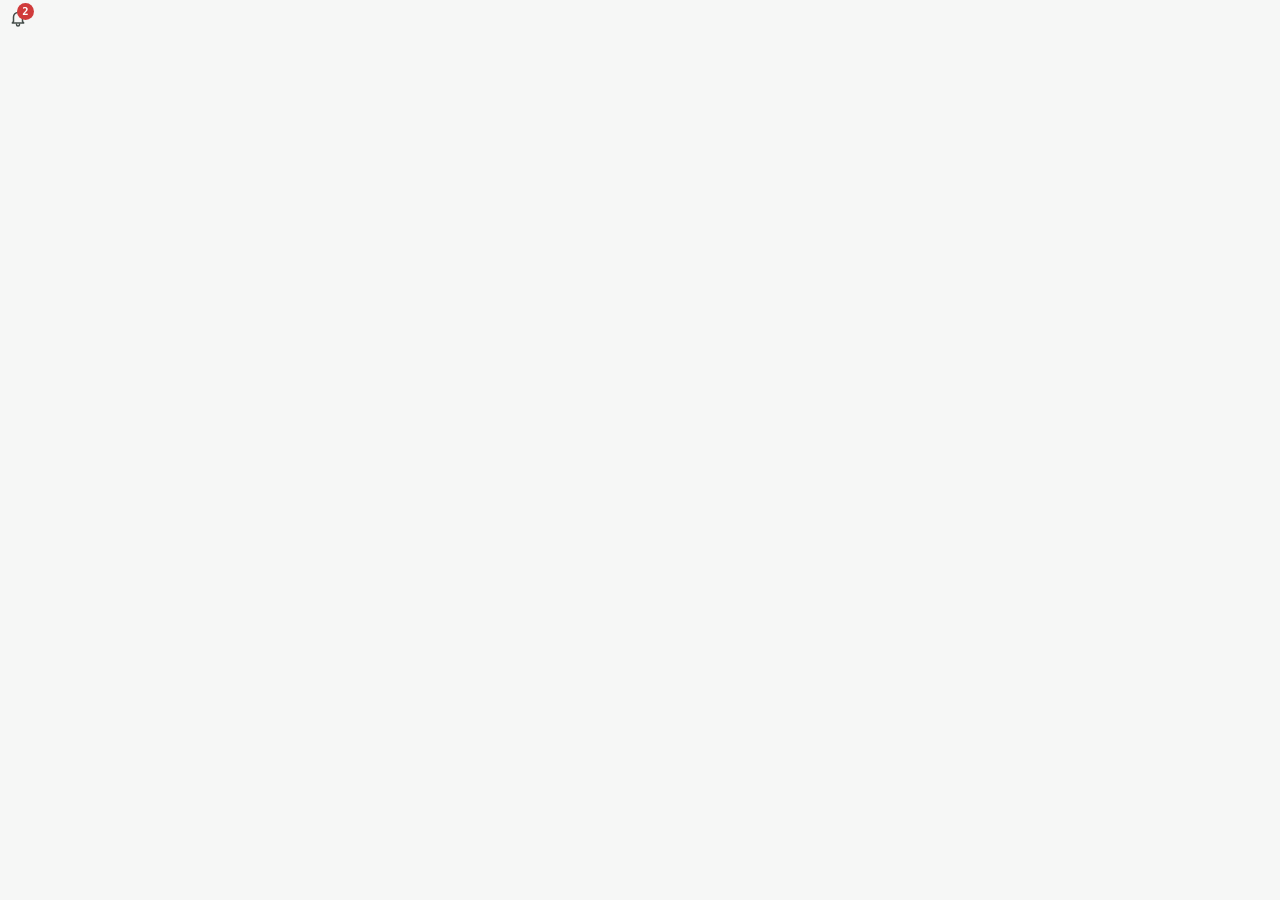
Test: liste les notifications traduites et marque tout comme lu
Later steps or results of the test are not shown.
Click the button named "Notifications, 2 non lues".
click(18, 18)  # box left=0, top=0, right=36, bottom=36
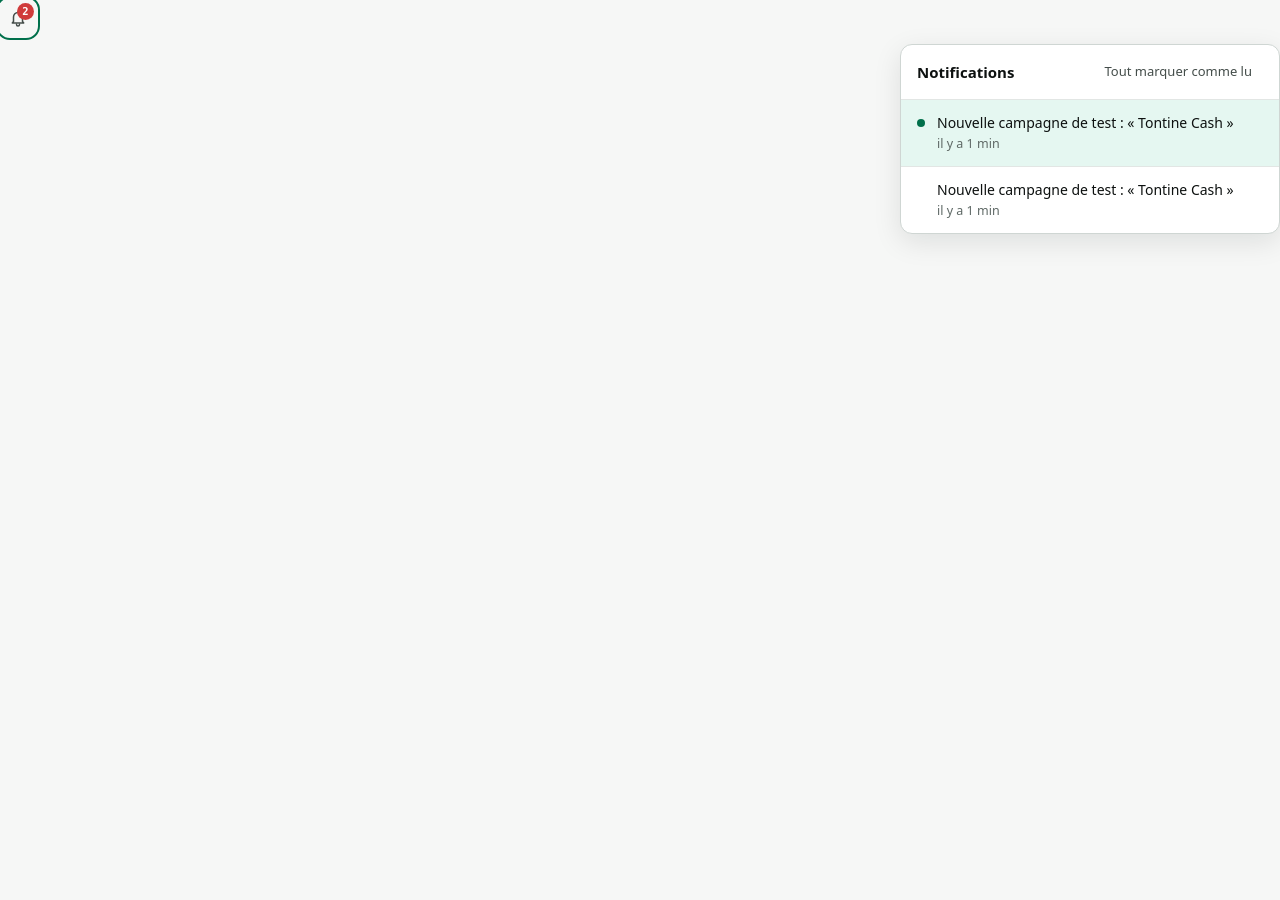
Expected: the text "Nouvelle campagne de test : « Tontine Cash » il y a 1 min" is shown 2 times, left=937, top=112, right=1234, bottom=154; left=937, top=179, right=1234, bottom=221
